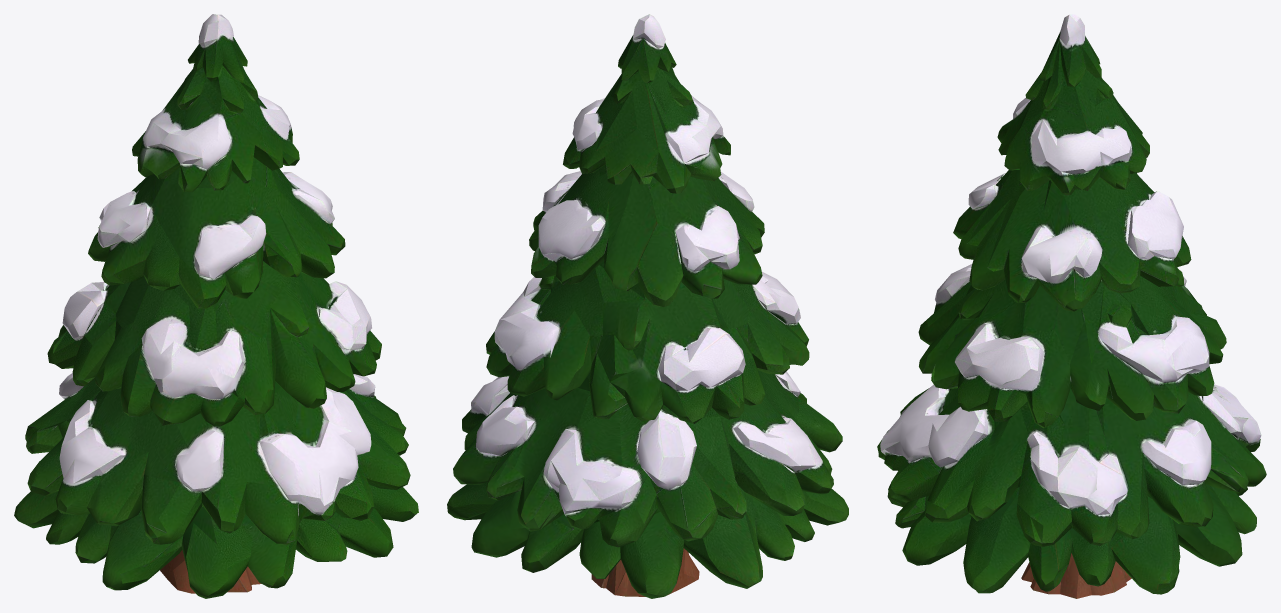
The model's file is pine.glb.
3 views of the same model, side by side, from view 1: azimuth 30°, elevation 25°; view 2: azimuth 150°, elevation 25°; view 3: azimuth 270°, elevation 25° (orthographic).
Parts seen in each view (by area): view 1: output_unwrapped; view 2: output_unwrapped; view 3: output_unwrapped.
Boxes of the visible parts, x1,y1,x2,y2 form: output_unwrapped: (14,14,418,598); output_unwrapped: (447,14,848,598); output_unwrapped: (877,14,1266,598).
Bounding box in the file's own units: 1.22 × 1.9 × 1.2.
Materials: 1 (1 with a texture image).
